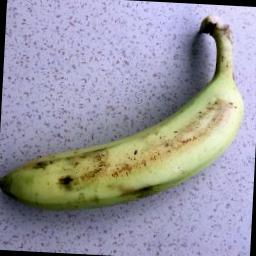Banana Ripe: (0, 10, 256, 216)
